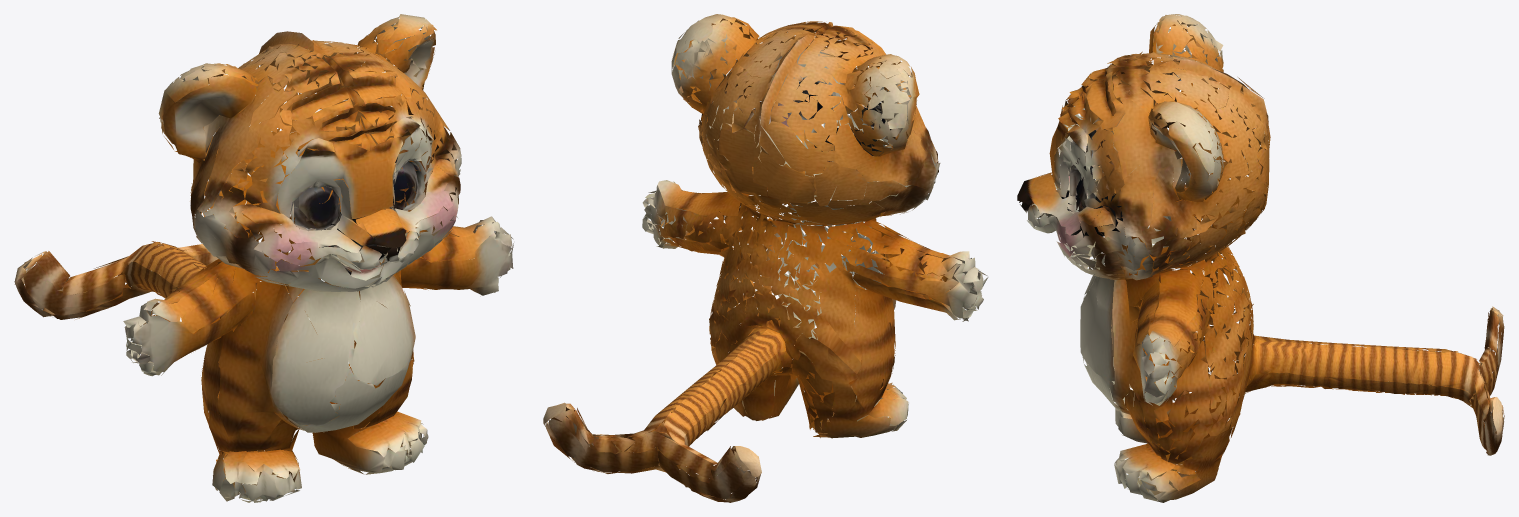
The model's file is tiger.glb.
3 renders of one model, left to right at view 1: azimuth 30°, elevation 25°; view 2: azimuth 150°, elevation 25°; view 3: azimuth 270°, elevation 25°, orthographic. The views are drawn at different scales.
Parts seen in each view (by area): view 1: Character; view 2: Character; view 3: Character.
Boxes of the visible parts, x1,y1,x2,y2 form: Character: (14, 14, 513, 502); Character: (543, 14, 988, 502); Character: (1017, 14, 1504, 502).
Bounding box in the file's own units: 0.928 × 1 × 1.09.
1 material, 1 textured.
